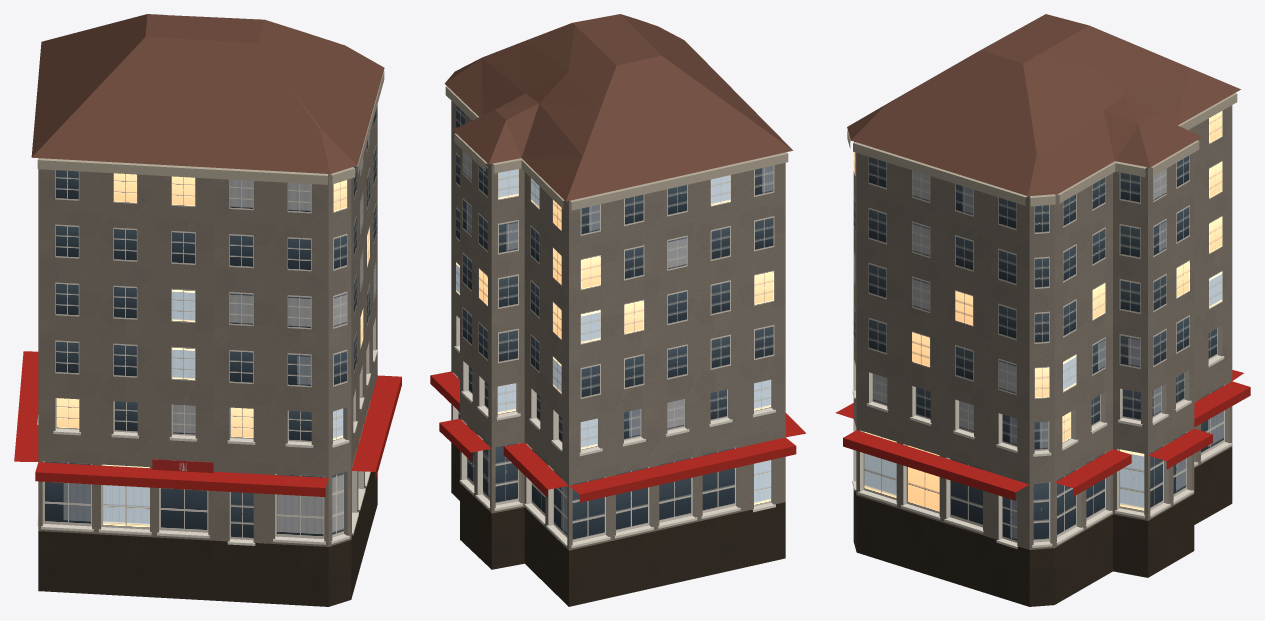
File: langC_stuba.glb
3 renders of one model, left to right at view 1: azimuth 30°, elevation 25°; view 2: azimuth 150°, elevation 25°; view 3: azimuth 270°, elevation 25°, orthographic. The views are drawn at different scales.
Parts seen in each view (by area): view 1: langC_stuba; view 2: langC_stuba; view 3: langC_stuba.
Part boxes in pixels (bbox=[...]): langC_stuba: bbox=[14, 14, 401, 606]; langC_stuba: bbox=[430, 14, 805, 606]; langC_stuba: bbox=[836, 14, 1250, 606].
Bounding box in the file's own units: 19.77 × 25.79 × 19.84.
3 materials, 3 textured.
